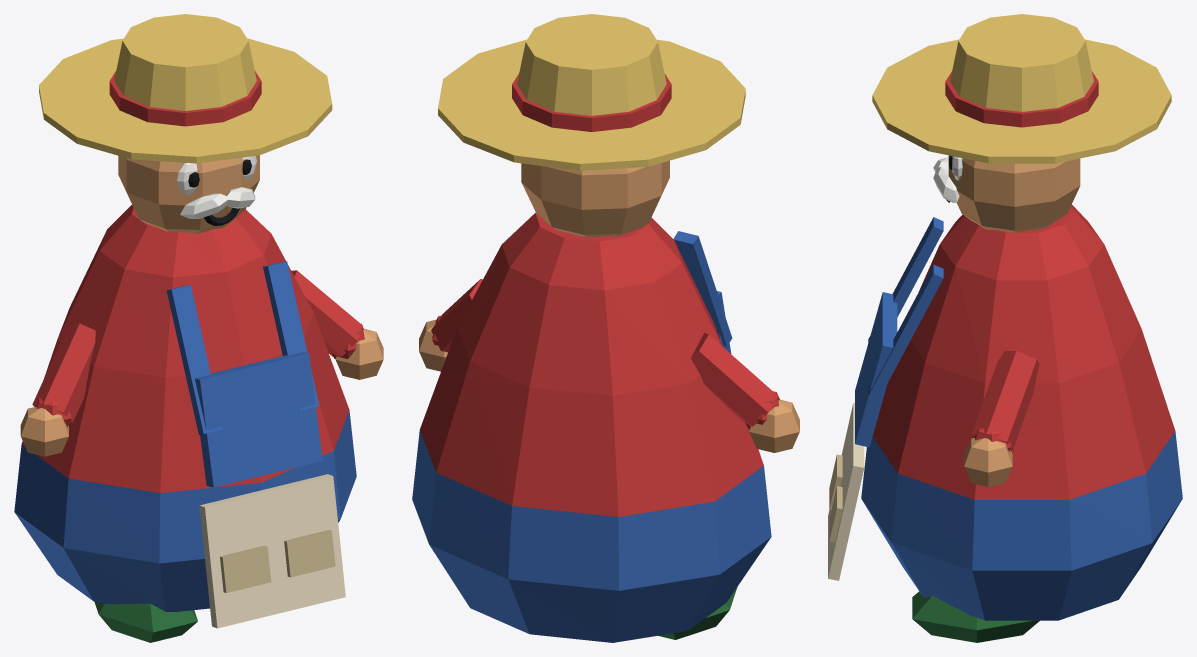
Rendered from npc_florencio.glb.
The picture shows the model from 3 angles, left to right: view 1: azimuth 30°, elevation 25°; view 2: azimuth 150°, elevation 25°; view 3: azimuth 270°, elevation 25°; orthographic projection. The views are drawn at different scales.
Parts seen in each view (by area): view 1: body_checked_red, body_overall_blue, hat_straw_hat, body_apron, head_skin_arena, arms_checked_red, body_apron_pocket (×2), arms_skin_arena, legs_rubber_boots, hat_hat_band, face_mustache_white, face_white (+1 smaller); view 2: body_checked_red, body_overall_blue, hat_straw_hat, head_skin_arena, arms_checked_red, hat_hat_band, arms_skin_arena, legs_rubber_boots; view 3: body_checked_red, body_overall_blue, hat_straw_hat, head_skin_arena, arms_checked_red, legs_rubber_boots, hat_hat_band, body_apron, arms_skin_arena, face_mustache_white, body_apron_pocket.
Boxes of the visible parts, x1,y1,x2,y2 form: body_checked_red: [21, 205, 349, 493]; body_overall_blue: [14, 261, 356, 611]; hat_straw_hat: [39, 14, 332, 163]; body_apron: [199, 474, 345, 628]; head_skin_arena: [118, 155, 259, 233]; arms_checked_red: [32, 270, 364, 427]; body_apron_pocket (×2): [220, 530, 335, 592]; arms_skin_arena: [20, 329, 383, 456]; legs_rubber_boots: [94, 602, 197, 642]; hat_hat_band: [109, 70, 261, 126]; face_mustache_white: [180, 187, 255, 218]; face_white: [177, 156, 256, 194]; body_checked_red: [420, 212, 763, 516]; body_overall_blue: [412, 231, 771, 642]; hat_straw_hat: [438, 14, 745, 170]; head_skin_arena: [521, 160, 669, 237]; arms_checked_red: [431, 279, 779, 428]; hat_hat_band: [512, 73, 671, 131]; arms_skin_arena: [419, 319, 799, 452]; legs_rubber_boots: [658, 587, 737, 639]; body_checked_red: [872, 204, 1175, 499]; body_overall_blue: [855, 217, 1182, 620]; hat_straw_hat: [872, 14, 1171, 163]; head_skin_arena: [948, 155, 1080, 232]; arms_checked_red: [971, 351, 1039, 451]; legs_rubber_boots: [912, 591, 1039, 642]; hat_hat_band: [945, 71, 1098, 127]; body_apron: [828, 402, 864, 580]; arms_skin_arena: [964, 438, 1012, 486]; face_mustache_white: [933, 157, 959, 202]; body_apron_pocket: [829, 486, 842, 542].
Bounding box in the file's own units: 1.13 × 1.66 × 0.9485.
